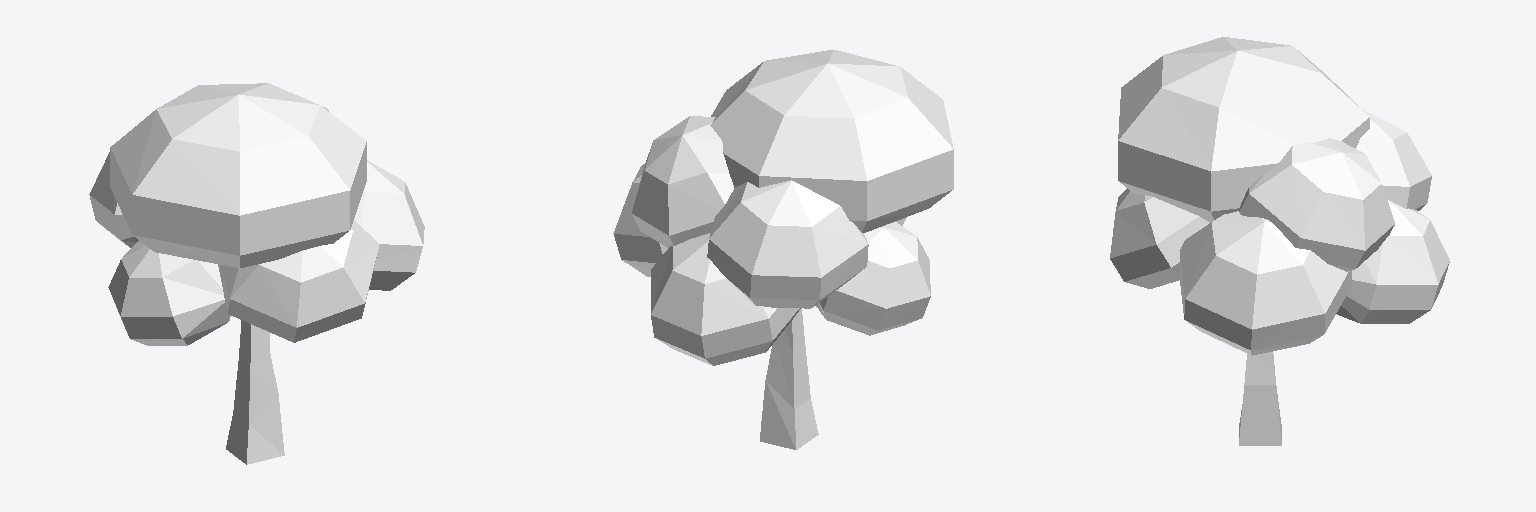
Rendered from tree_A.obj.
3 renders of one model, left to right at view 1: azimuth 30°, elevation 25°; view 2: azimuth 150°, elevation 25°; view 3: azimuth 270°, elevation 25°, orthographic.
Visible parts, largest first — view 1: tree_A_Cube.14210; view 2: tree_A_Cube.14210; view 3: tree_A_Cube.14210.
Part boxes in pixels (left/top/right/bottom): tree_A_Cube.14210: left=89, top=83, right=424, bottom=464; tree_A_Cube.14210: left=613, top=50, right=953, bottom=449; tree_A_Cube.14210: left=1110, top=37, right=1449, bottom=445.
Size of the model in its own units: 1.03 by 1.18 by 0.9794.